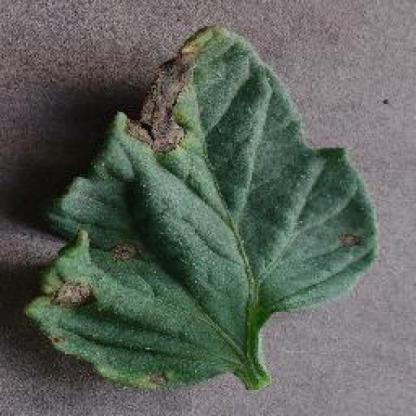Tomato_Blight: (28, 25, 376, 379)
